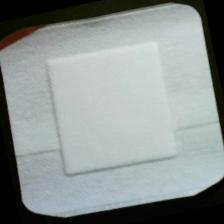Dressing: (1, 1, 224, 224)
Red_T: (1, 21, 56, 57)
